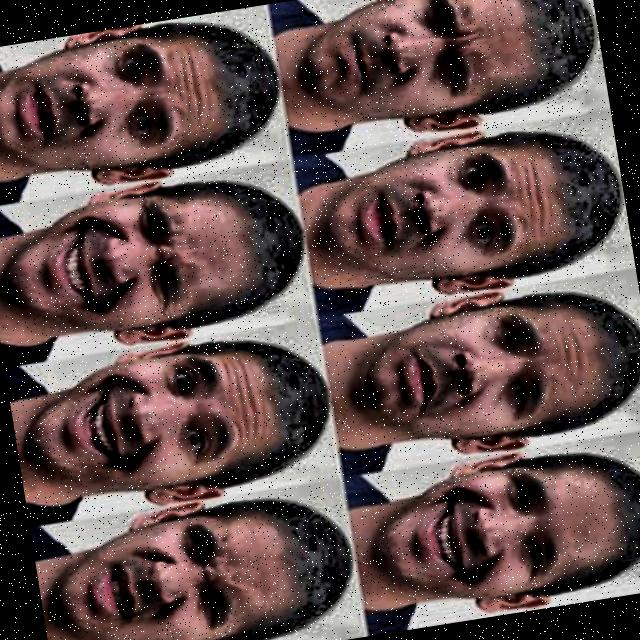disgust: (29, 478, 368, 640)
fear: (0, 5, 289, 205)
happy: (4, 319, 341, 526), (0, 157, 316, 368), (344, 430, 640, 634)
sad: (316, 267, 640, 479)
surprised: (293, 108, 636, 319)
